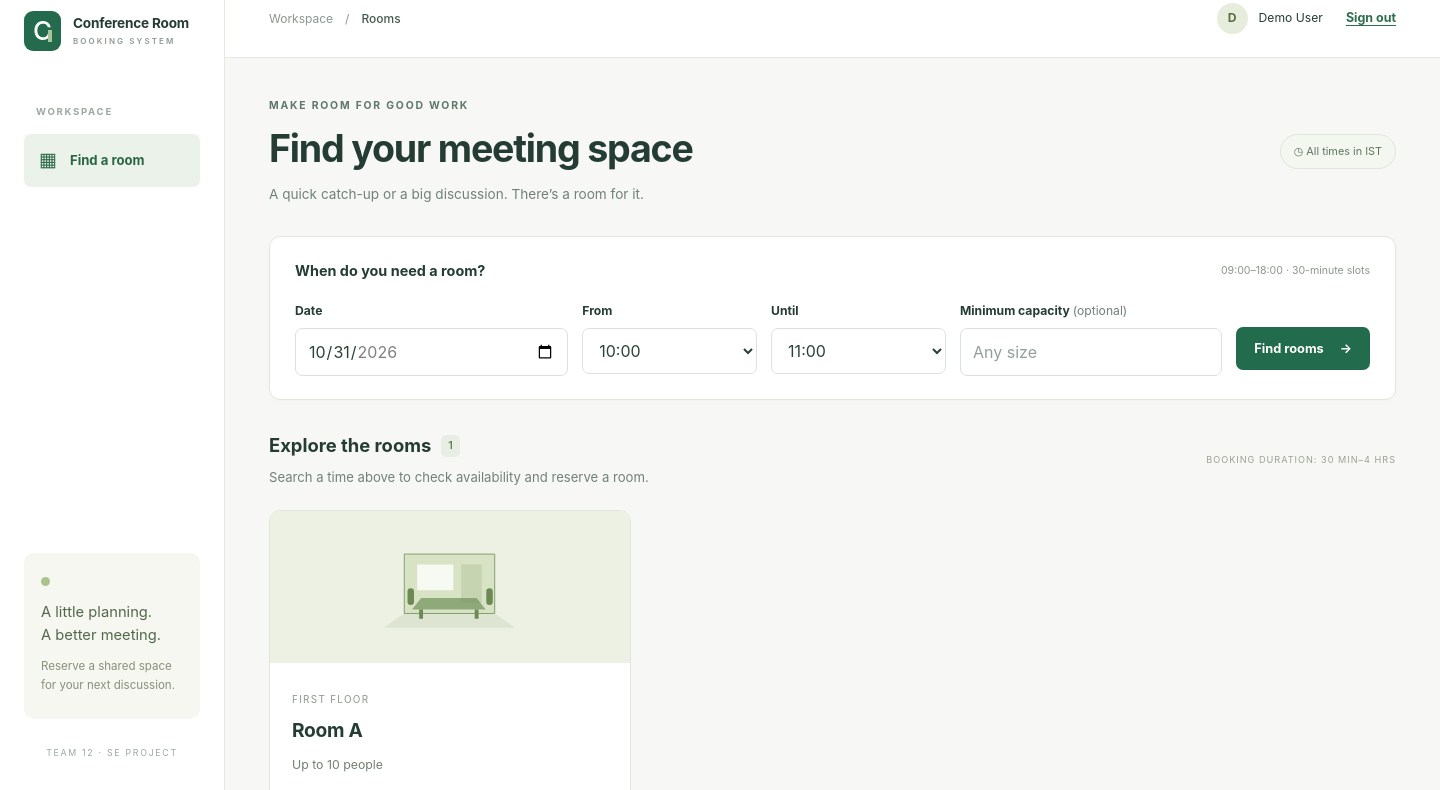
Test: TC04 / TC05 / TC06 / TC07 booking flow › shows actual confirmation only after the server returns success
Expected: the heading "Room A" is shown, [292,718,362,742]
Click the button "Find rooms →" at (1303, 348), box [1236,327,1370,370]
(page scrolled)
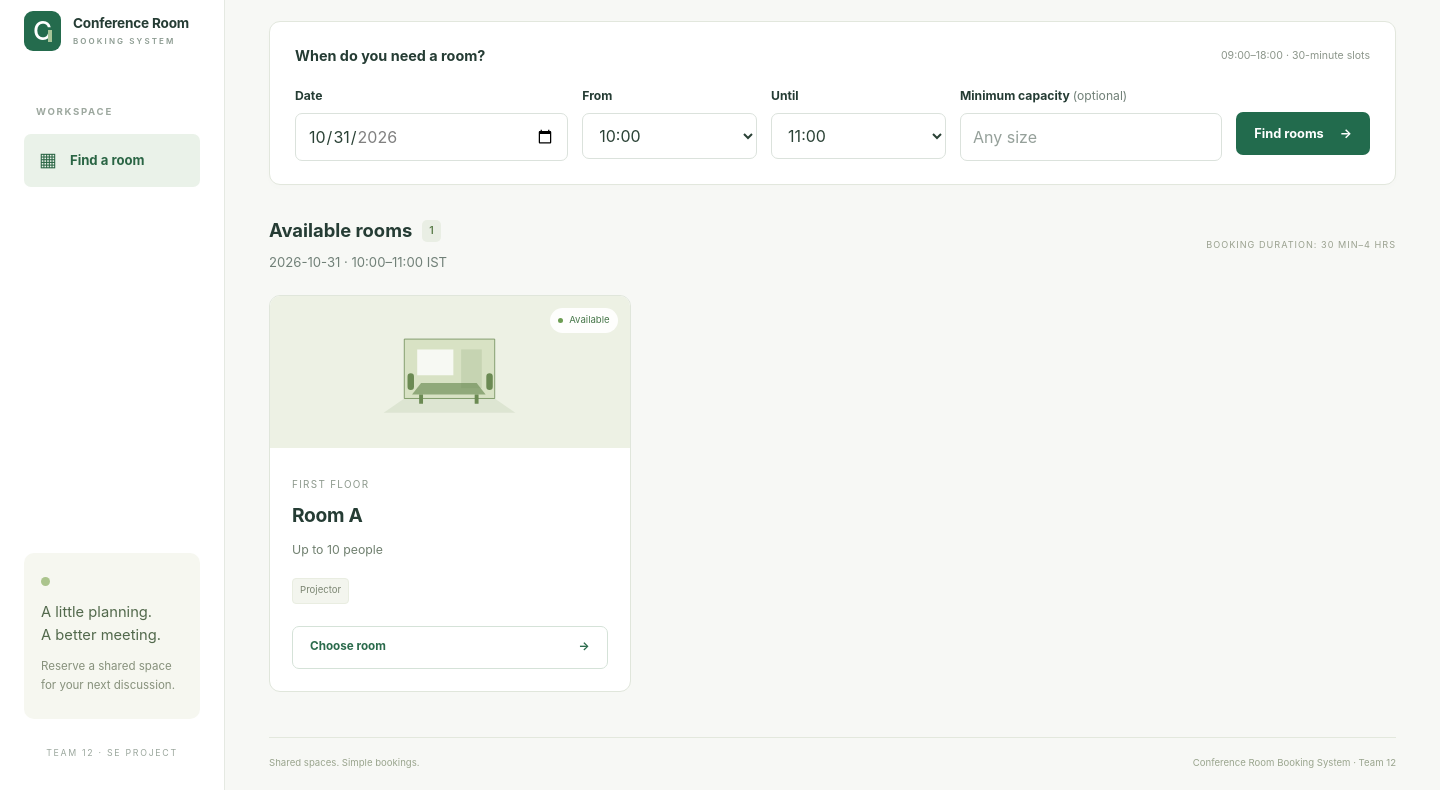
Result: the heading "Available rooms 1" is shown at [269,217,447,245]
Click the button "Choose room →" at (348, 646), box [292,626,608,668]
(page scrolled)
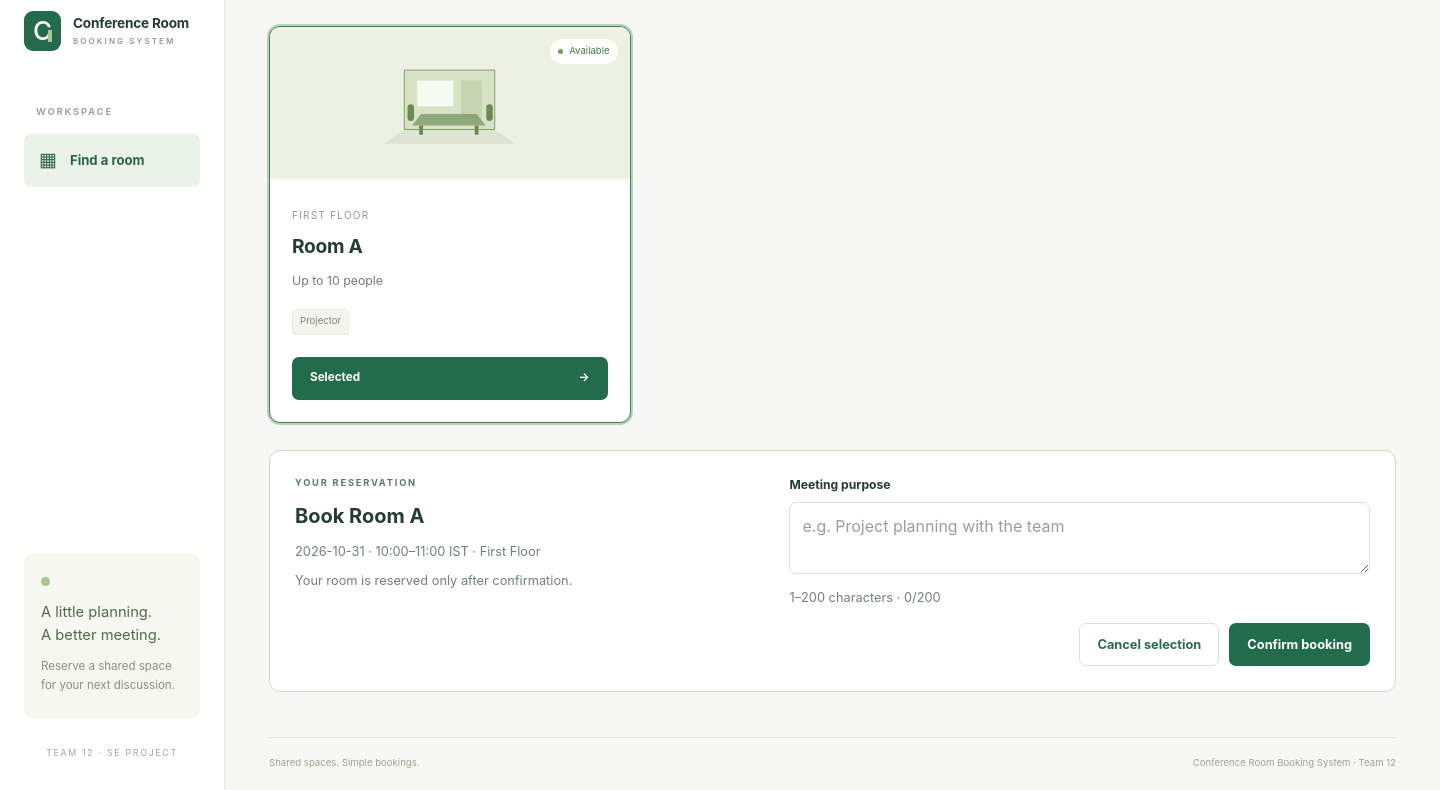
Type "Planning" into the text box labelled "Meeting purpose" at (1080, 538), box [789,502,1370,574]
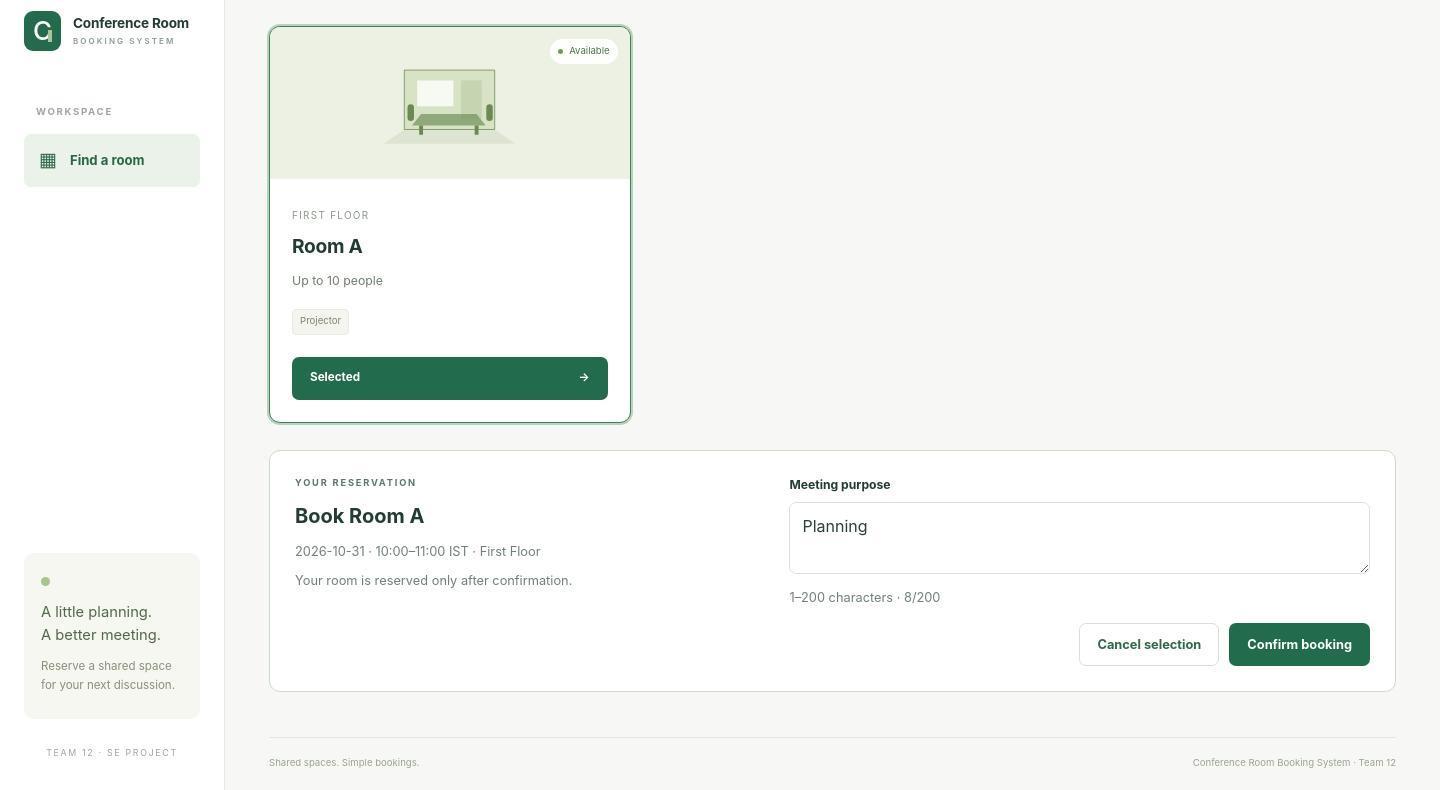
Click the button "Confirm booking" at (1300, 644), box [1229,623,1370,666]
(page scrolled)
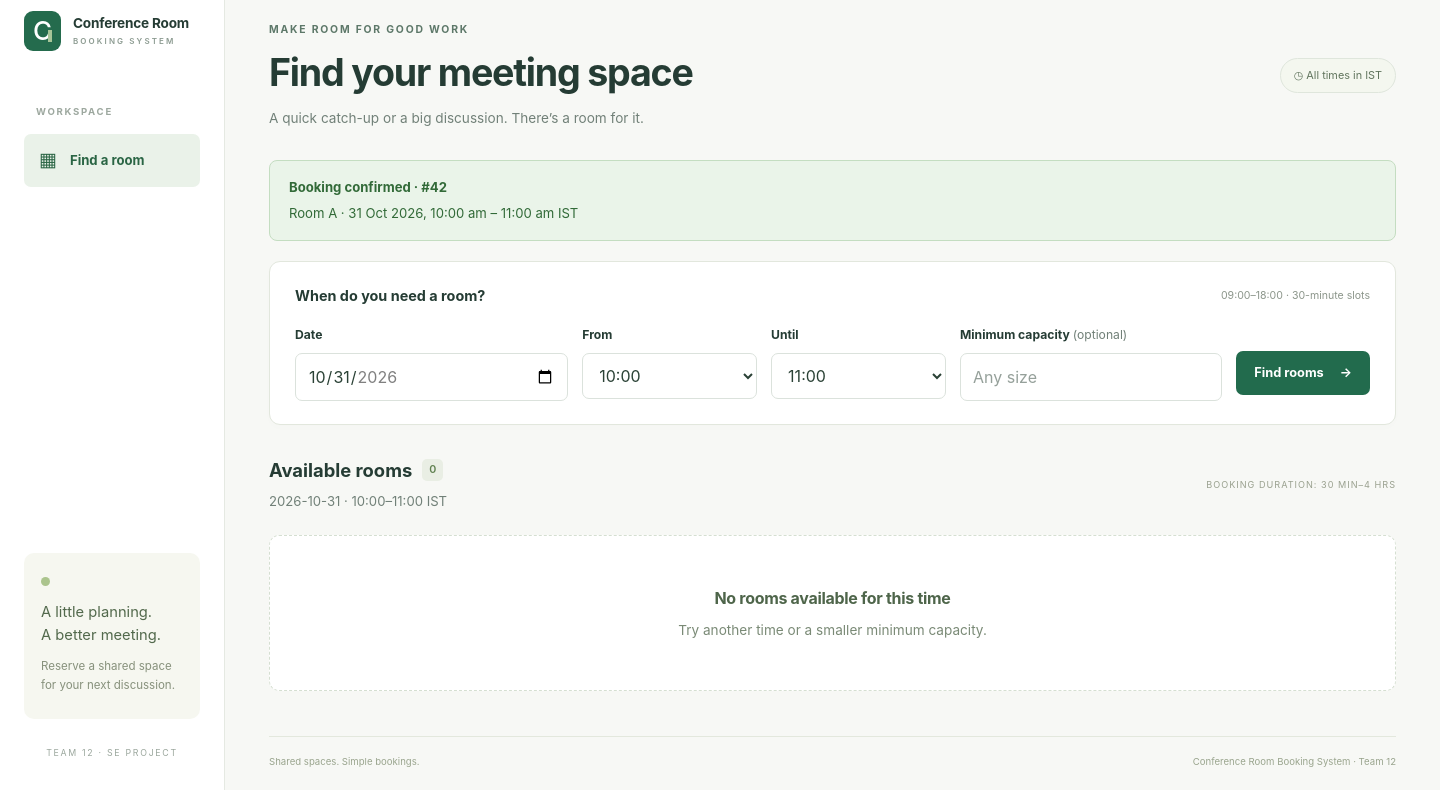
Result: the text "Booking confirmed · #42" is shown at [289,179,447,195]
Result: the button "Confirm booking" is gone
